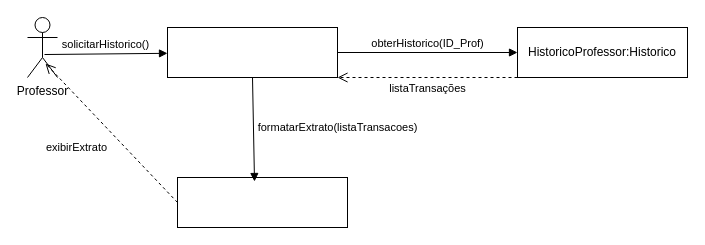
The diagram is 705 pixels wide and 245 high, and some of its shapes have lost their labels. The box of each missing label's shape, as (x1, y1, x2, y2) in pixels:
Interface:Tela: (176, 176, 348, 228)
SistemaControlador:Sistema: (166, 26, 338, 78)
